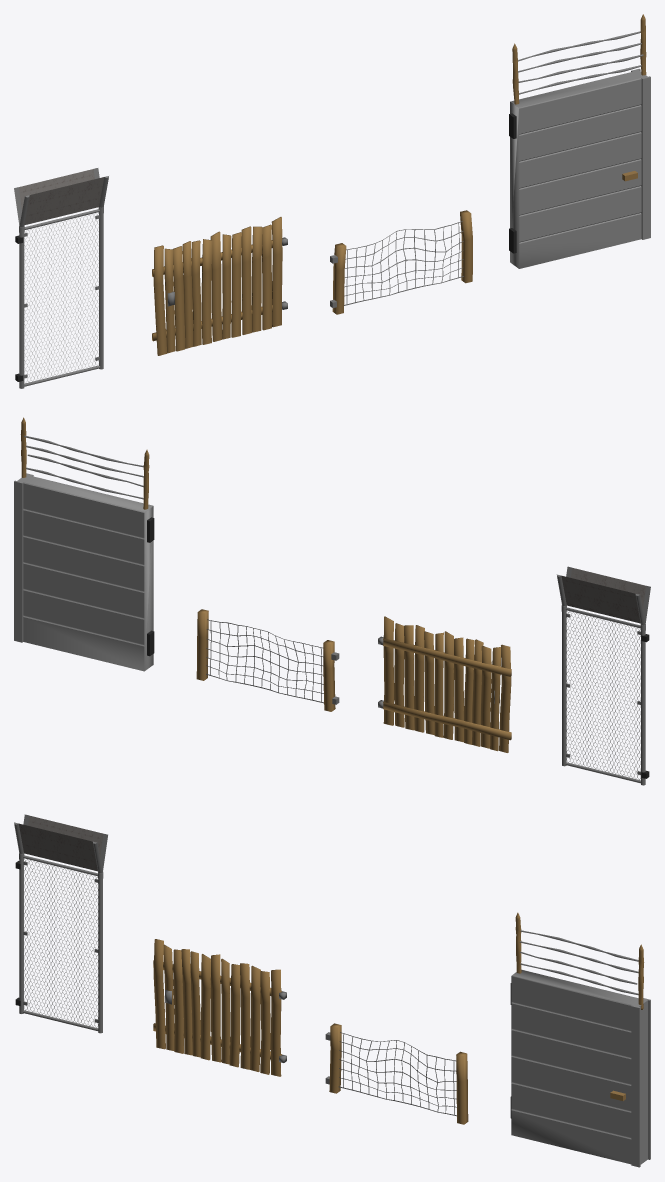
Rendered from fence_doors.fbx.
3 renders of one model, top to bottom at view 1: azimuth 30°, elevation 25°; view 2: azimuth 150°, elevation 25°; view 3: azimuth 330°, elevation 25°, orthographic.
Parts seen in each view (by area): view 1: concrtete_door, wood_door, wire_door, fence_door; view 2: concrtete_door, wood_door, wire_door, fence_door; view 3: concrtete_door, wood_door, wire_door, fence_door.
Part boxes in pixels (x1,y1,x2,y2): concrtete_door: (509,14,650,268); wood_door: (152,217,287,355); wire_door: (14,168,108,388); fence_door: (330,210,472,314); concrtete_door: (14,417,154,671); wood_door: (378,616,511,752); wire_door: (556,566,650,785); fence_door: (196,609,339,711); concrtete_door: (510,912,650,1167); wood_door: (153,939,286,1076); wire_door: (14,814,107,1033); fence_door: (325,1023,468,1124).
Size of the model in its own units: 981 by 329 by 41.29.
